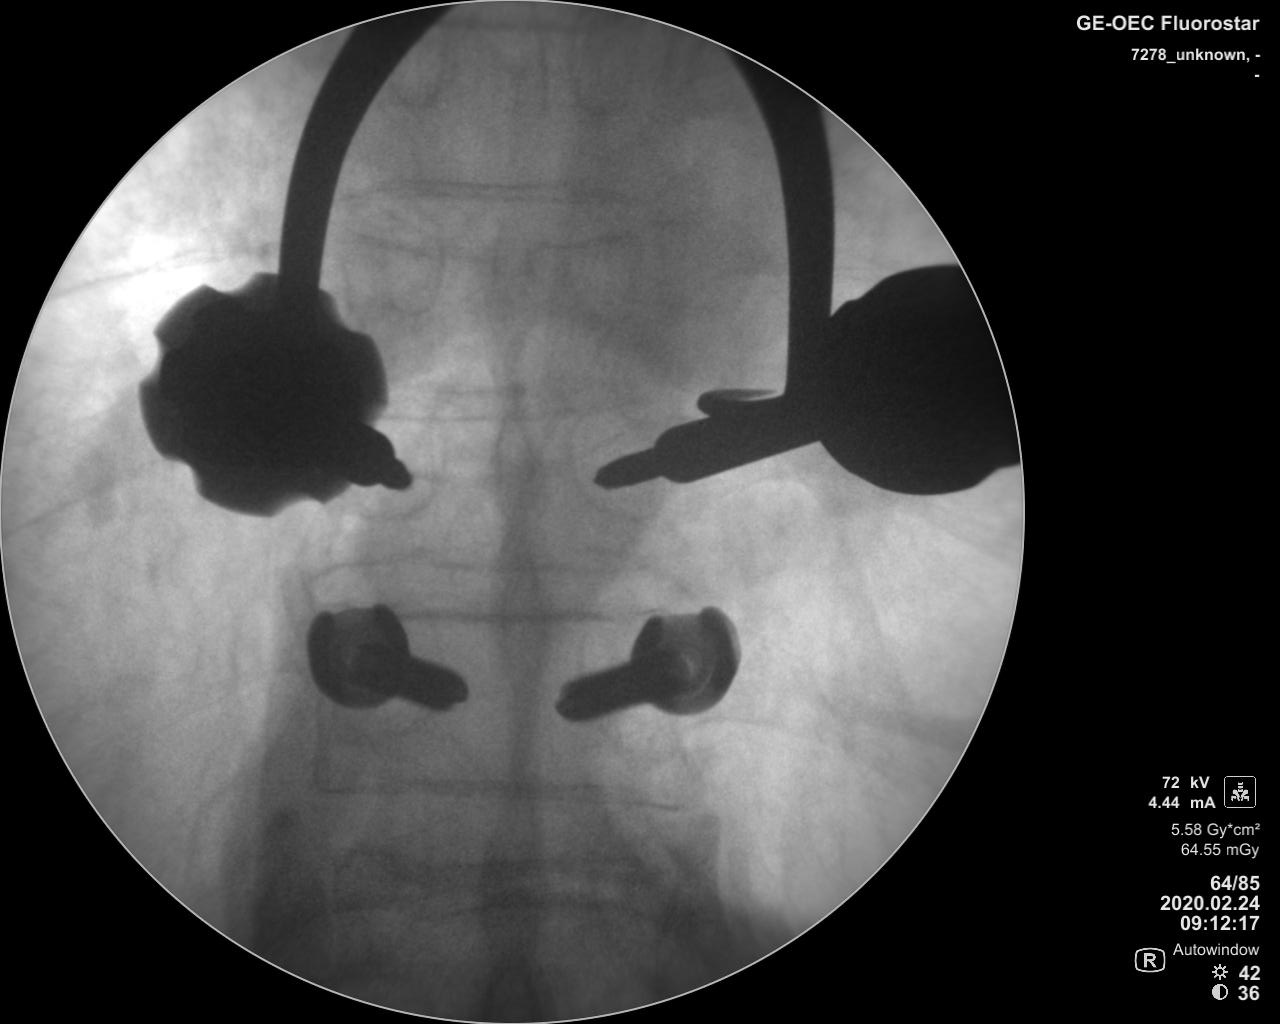eyes: (572, 607, 677, 766), (341, 409, 438, 527), (355, 196, 449, 318), (566, 406, 664, 522), (563, 206, 643, 324)
line: (327, 771, 677, 812), (325, 548, 664, 586), (364, 169, 642, 211), (358, 847, 643, 879), (392, 601, 643, 629), (398, 376, 657, 397)
nose: (471, 741, 549, 956), (483, 390, 549, 533), (492, 544, 554, 697), (484, 212, 540, 359)
